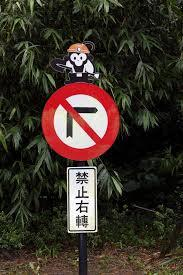no_right_turn: (40, 81, 120, 159)
